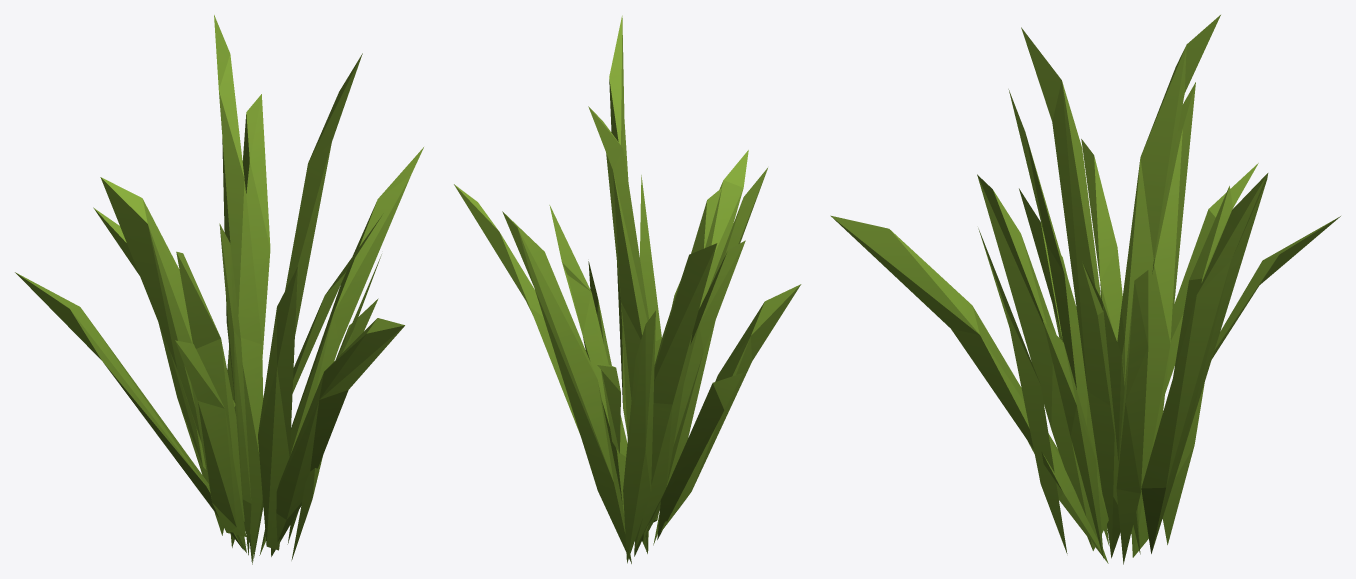
The model's file is ZLP_Grass_A_16.FBX.
The picture shows the model from 3 angles, left to right: view 1: azimuth 30°, elevation 25°; view 2: azimuth 150°, elevation 25°; view 3: azimuth 270°, elevation 25°; orthographic projection. The views are drawn at different scales.
Parts seen in each view (by area): view 1: ZLP_Grass_A_16; view 2: ZLP_Grass_A_16; view 3: ZLP_Grass_A_16.
Part boxes in pixels (x1,y1,x2,y2): ZLP_Grass_A_16: (15,15,423,564); ZLP_Grass_A_16: (454,15,801,563); ZLP_Grass_A_16: (830,15,1340,564).
Size of the model in its own units: 73.64 by 103 by 84.16.
